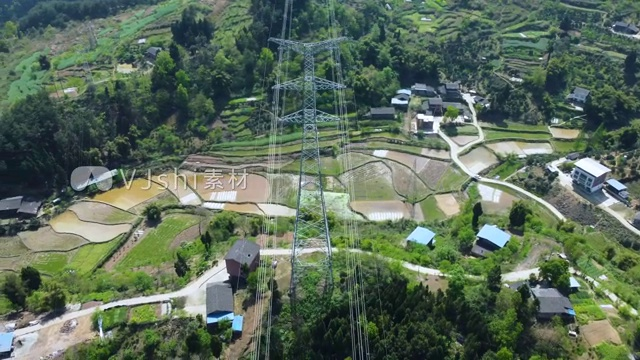tower_body: (263, 32, 354, 299)
tower_foot: (287, 237, 338, 296)
tower_head: (267, 37, 351, 55)
